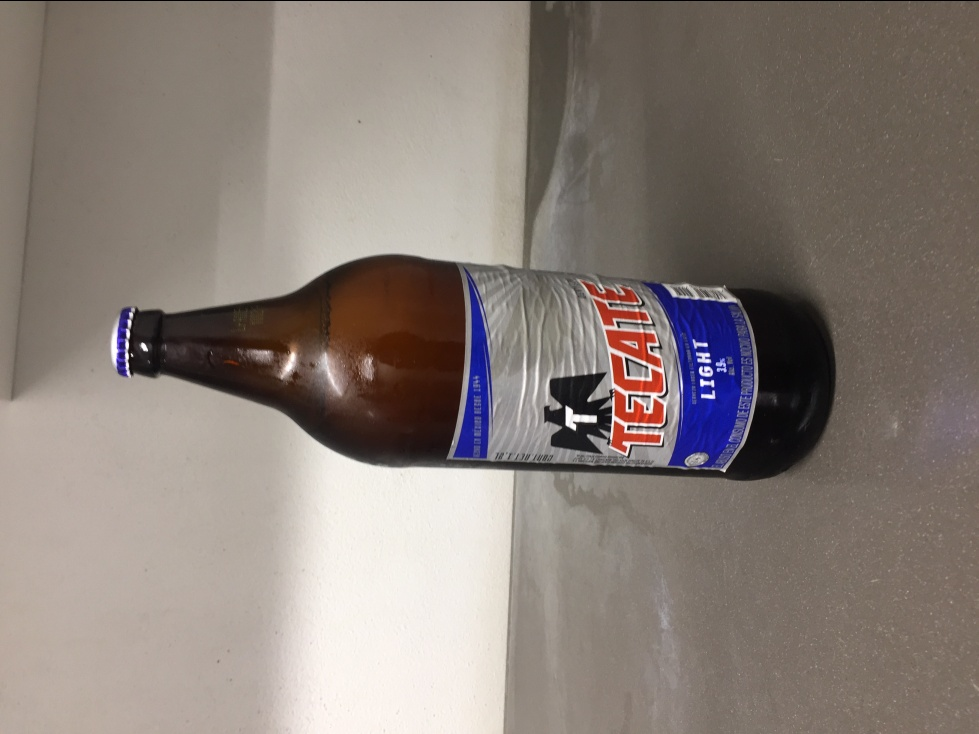tecateC: (110, 255, 832, 486)
